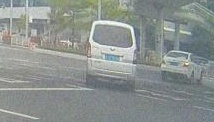L_light: (87, 42, 92, 58), (161, 60, 166, 64)
R_light: (133, 49, 138, 64), (183, 62, 189, 67)
T_light: (109, 25, 117, 28), (177, 52, 182, 54)
day-no: (86, 20, 138, 91)
day-right: (161, 50, 189, 84)
